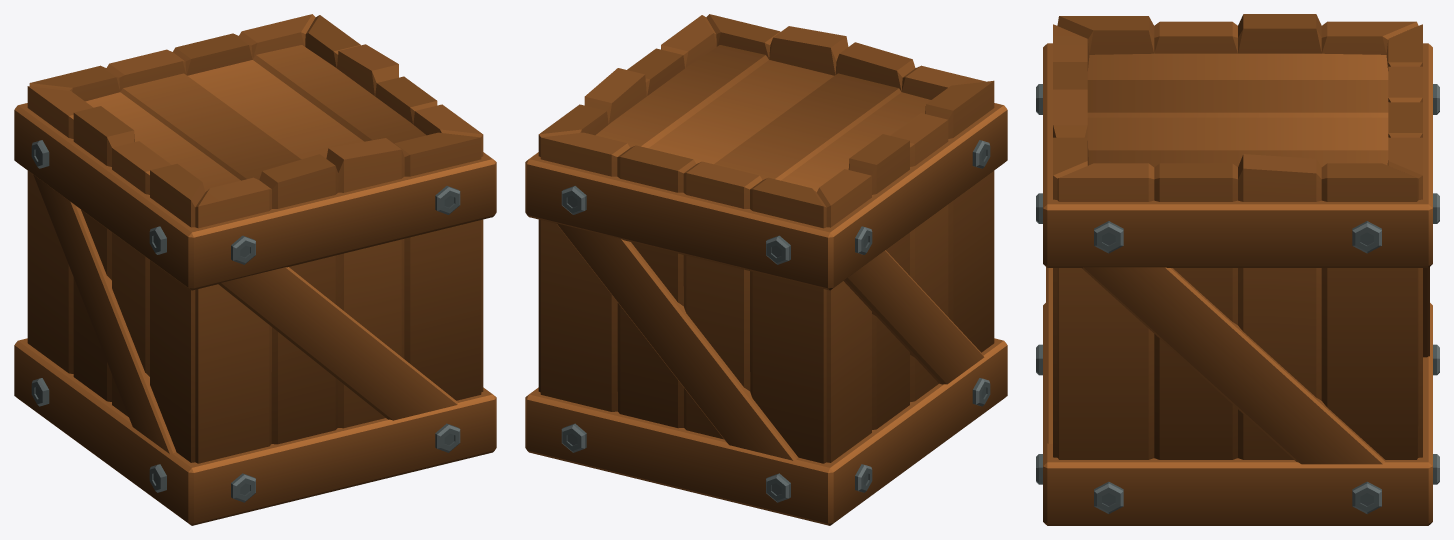
The picture shows the model from 3 angles, left to right: view 1: azimuth 30°, elevation 25°; view 2: azimuth 150°, elevation 25°; view 3: azimuth 270°, elevation 25°; orthographic projection. The views are drawn at different scales.
Parts seen in each view (by area): view 1: Box-1-6; view 2: Box-1-6; view 3: Box-1-6.
Part boxes in pixels (x1=…): Box-1-6: x1=14, y1=14, x2=496, y2=525; Box-1-6: x1=525, y1=14, x2=1007, y2=525; Box-1-6: x1=1036, y1=14, x2=1439, y2=525.
Bounding box in the file's own units: 101 × 99.07 × 101.
